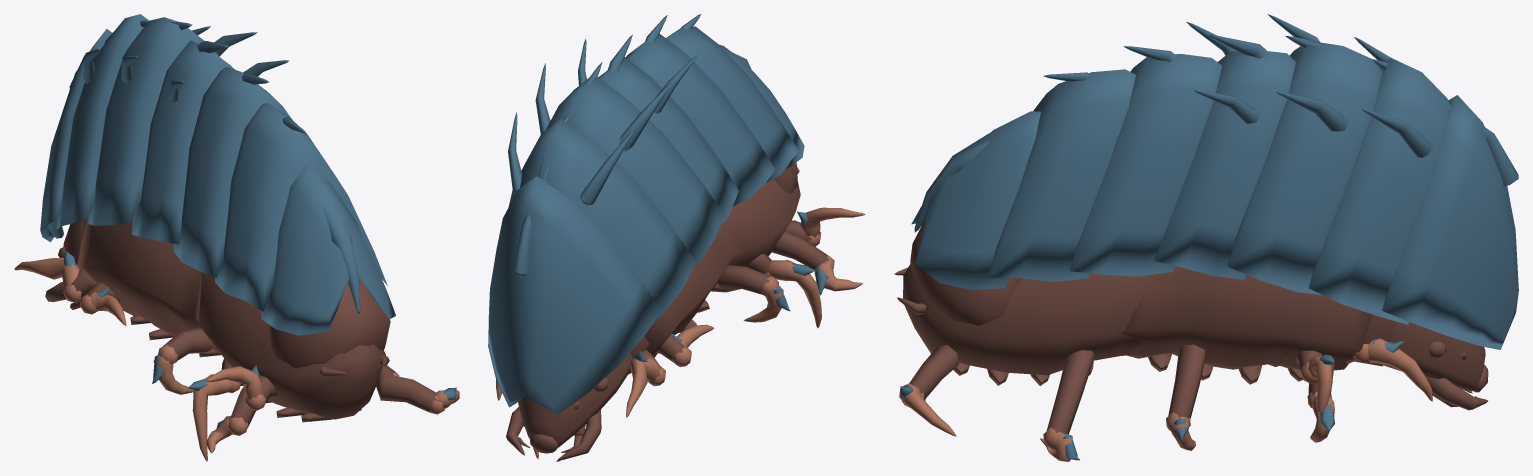
The model's file is big-spitter-corpse-2.glb.
The picture shows the model from 3 angles, left to right: view 1: azimuth 30°, elevation 25°; view 2: azimuth 150°, elevation 25°; view 3: azimuth 270°, elevation 25°; orthographic projection. The views are drawn at different scales.
Visible parts, largest first — view 1: body; view 2: body; view 3: body.
Boxes of the visible parts, x1,y1,x2,y2 form: body: (14, 14, 459, 461); body: (488, 14, 865, 461); body: (894, 14, 1518, 461).
Bounding box in the file's own units: 1.55 × 2.09 × 3.11.
